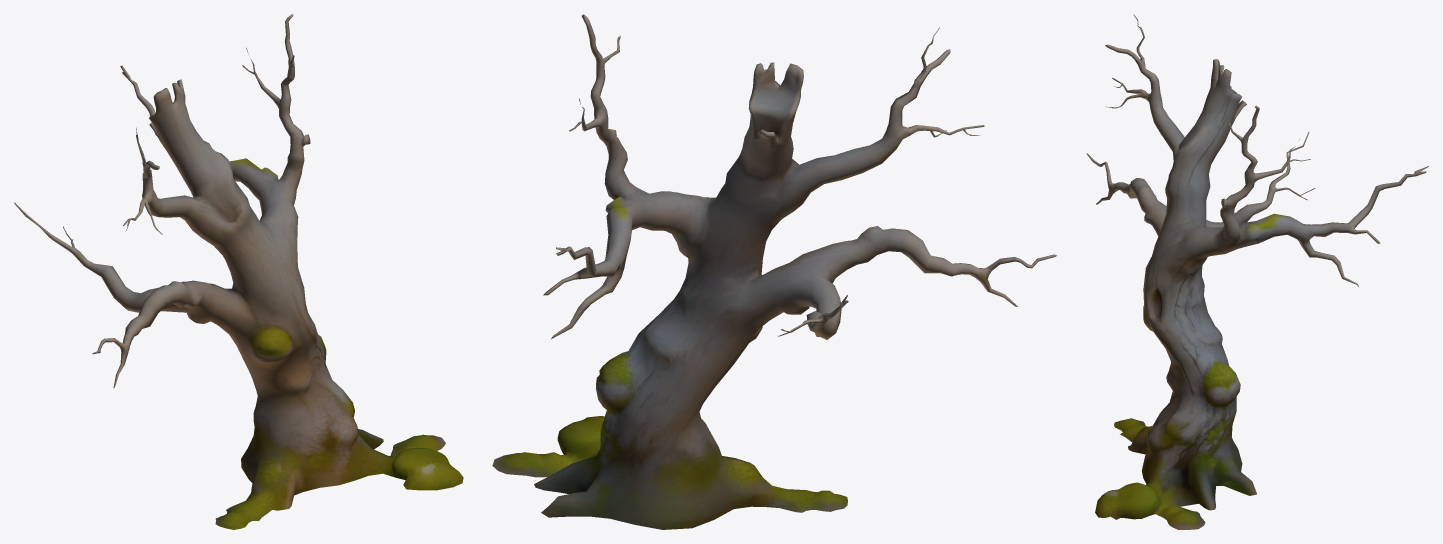
File: dead_1.glb
3 renders of one model, left to right at view 1: azimuth 30°, elevation 25°; view 2: azimuth 150°, elevation 25°; view 3: azimuth 270°, elevation 25°, orthographic. The views are drawn at different scales.
Parts seen in each view (by area): view 1: tripo_node_f66c1afa-c0e7-43fc-9033-52945446e99b; view 2: tripo_node_f66c1afa-c0e7-43fc-9033-52945446e99b; view 3: tripo_node_f66c1afa-c0e7-43fc-9033-52945446e99b.
Part boxes in pixels (<box>): tripo_node_f66c1afa-c0e7-43fc-9033-52945446e99b: <box>14,14,463,529</box>; tripo_node_f66c1afa-c0e7-43fc-9033-52945446e99b: <box>492,14,1056,529</box>; tripo_node_f66c1afa-c0e7-43fc-9033-52945446e99b: <box>1086,14,1428,529</box>.
Bounding box in the file's own units: 9.54 × 9.5 × 7.82.
1 material, 1 textured.
